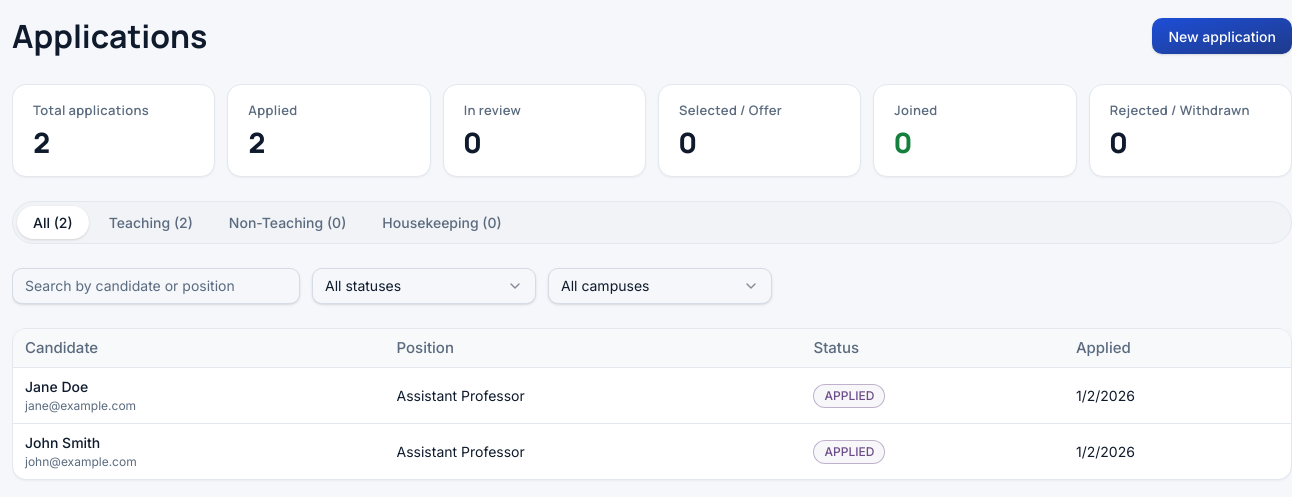
ApplicationsListPage › narrows the list client-side by campus without re-fetching
expect the link "Jane Doe" is shown: met, box [25,378,88,395]
expect the link "John Smith" is shown: met, box [25,434,100,451]
Click the dropdown named "Campus filter". click: click(660, 286)
box: [548,268,772,304]
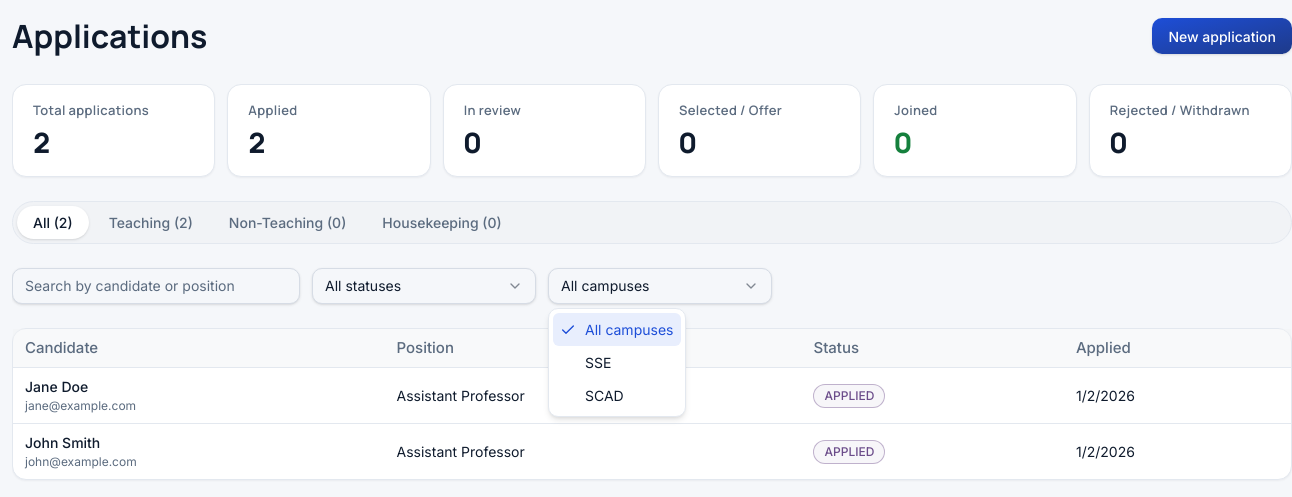
Click the option "SCAD". click: click(604, 396)
box: [585,387,624,404]
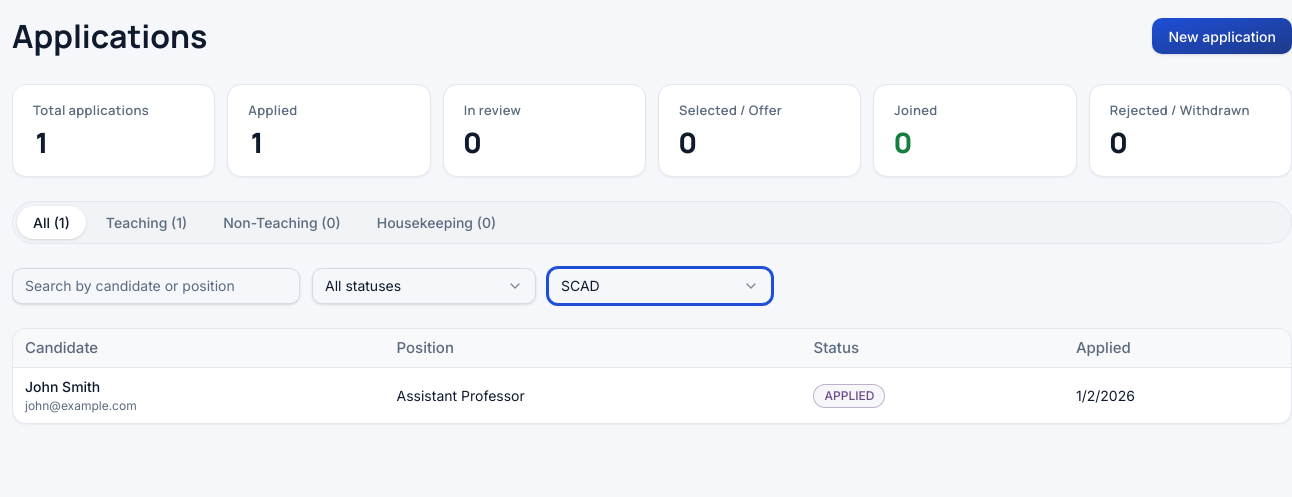
expect the link "John Smith" is shown: met, box [25,378,100,395]
expect the link "Jane Doe" is gone: met
